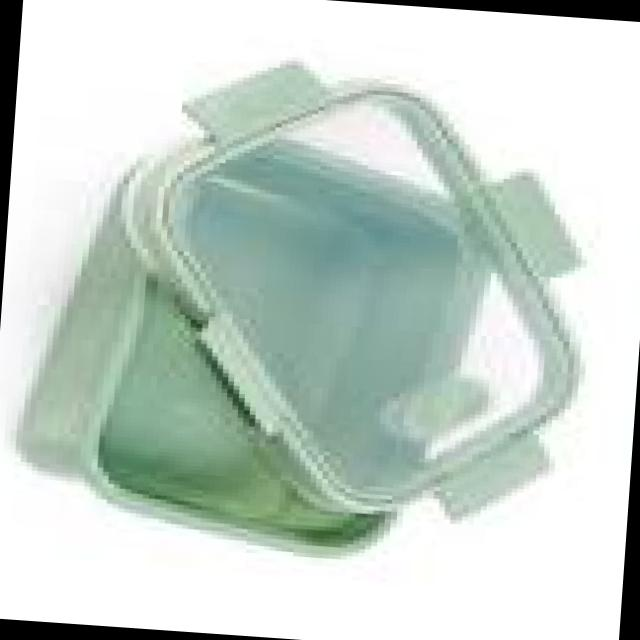Clamshell: (9, 34, 634, 590)
